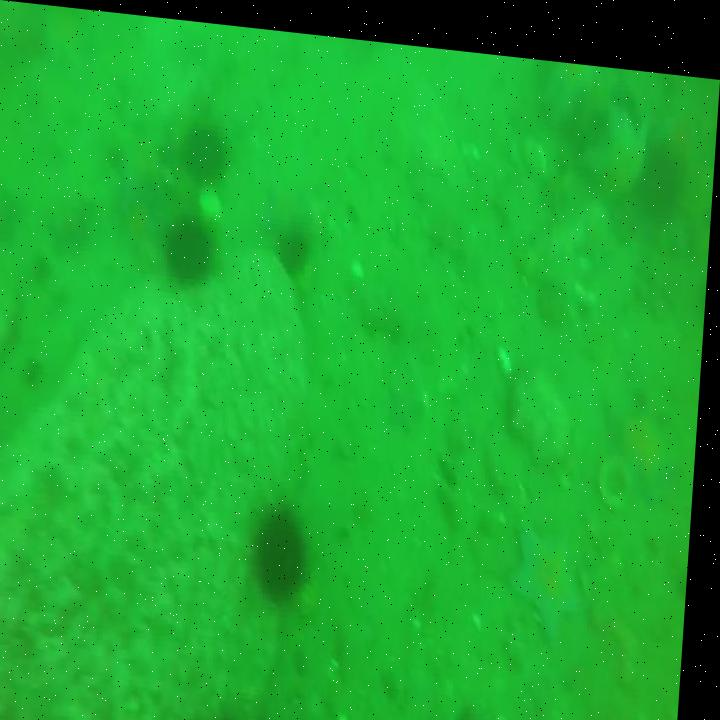echinus: (261, 489, 319, 599), (165, 208, 217, 283), (180, 116, 231, 175), (279, 216, 316, 270)
scallop: (601, 432, 640, 497)
starfish: (516, 510, 591, 628), (393, 374, 427, 423)
